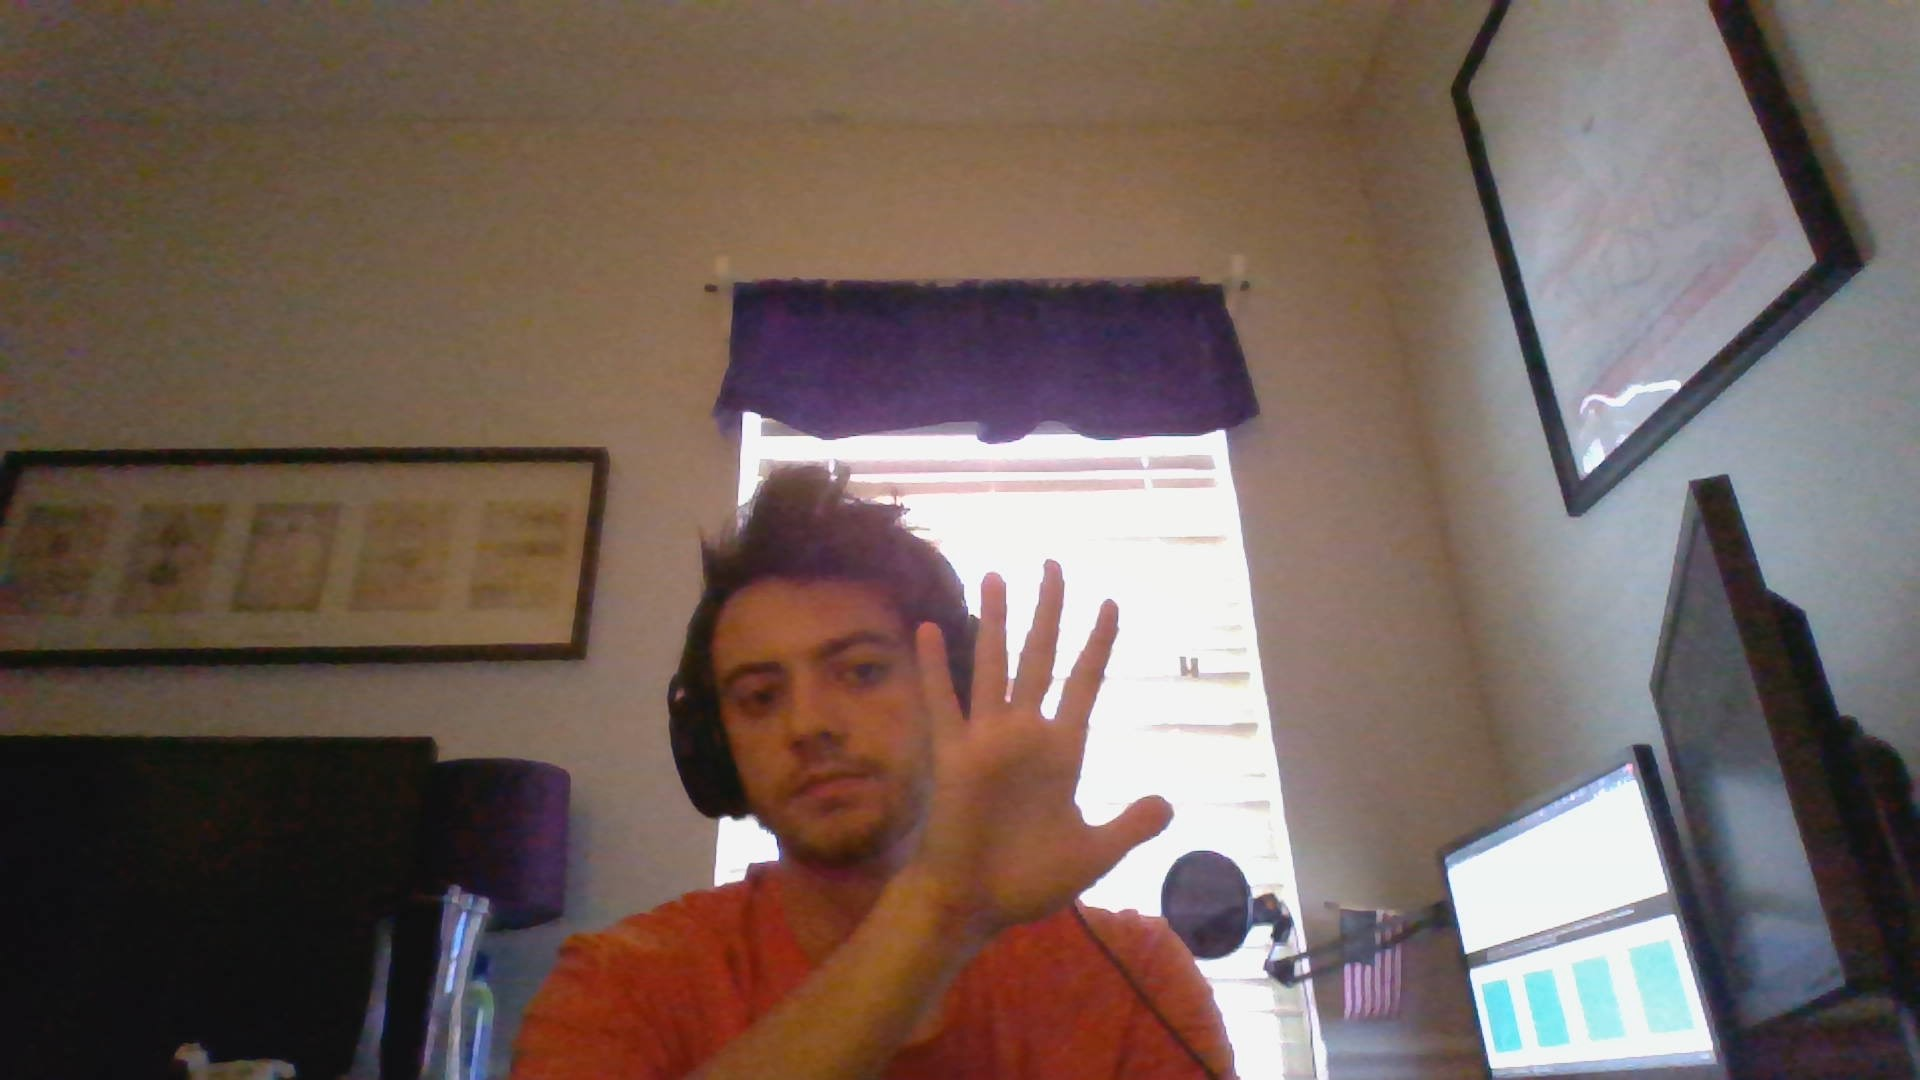Right Palm Up: (906, 553, 1178, 938)
